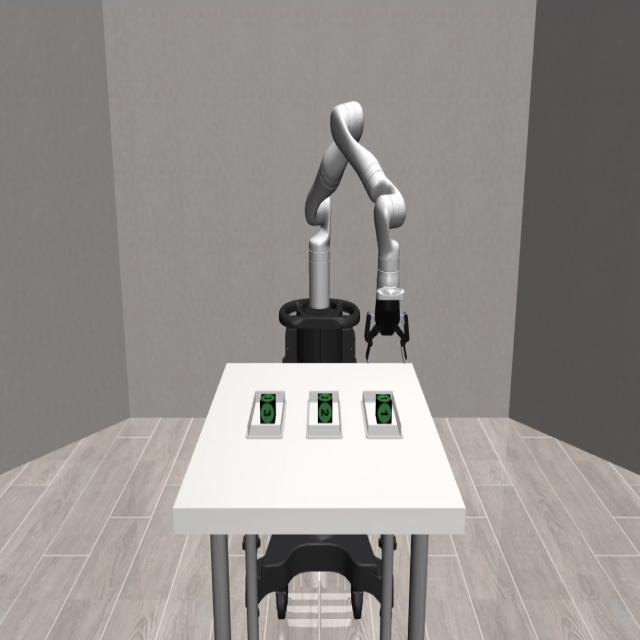cube1: (376, 393, 392, 424)
cube2: (317, 392, 333, 424)
cube3: (259, 391, 276, 425)
